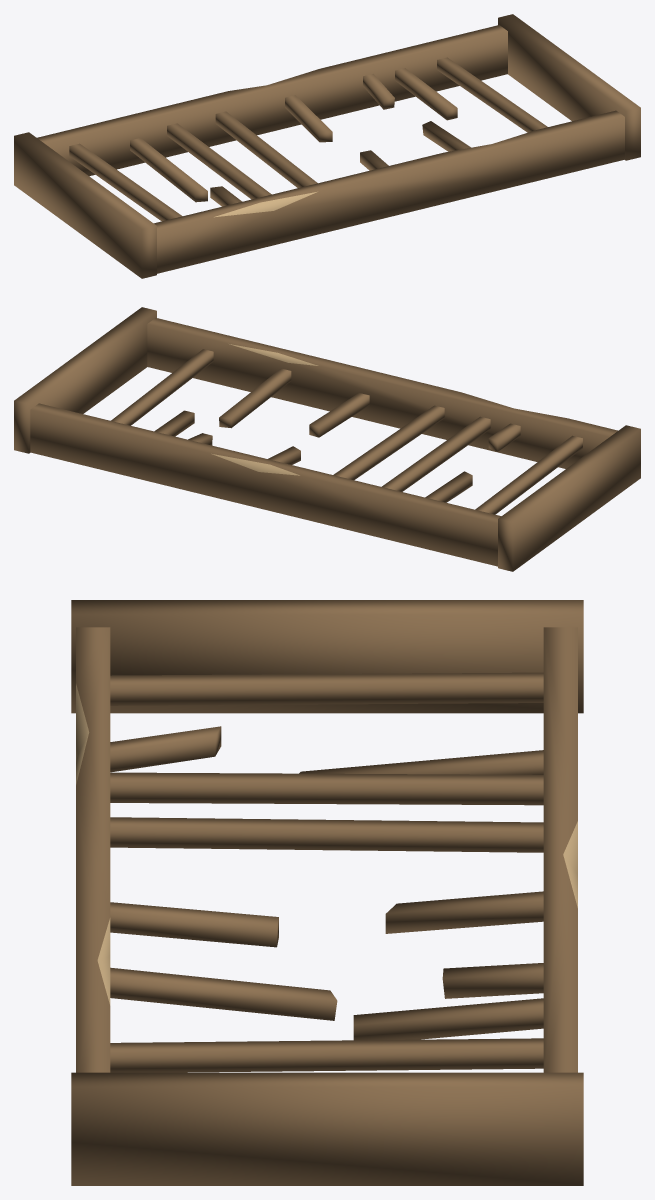
Rendered from rpgpp_av_bed_02a.gltf.
3 views of the same model, one above another, from view 1: azimuth 30°, elevation 25°; view 2: azimuth 150°, elevation 25°; view 3: azimuth 270°, elevation 25° (orthographic). The views are drawn at different scales.
Parts seen in each view (by area): view 1: rpgpp_av_bed_02a; view 2: rpgpp_av_bed_02a; view 3: rpgpp_av_bed_02a.
Boxes of the visible parts, <box> form: rpgpp_av_bed_02a: <box>14,14,640,278</box>; rpgpp_av_bed_02a: <box>14,307,640,571</box>; rpgpp_av_bed_02a: <box>71,600,583,1185</box>.
Bounding box in the file's own units: 0.0258 × 0.00244 × 0.0115.
Materials: 1 (1 with a texture image).
